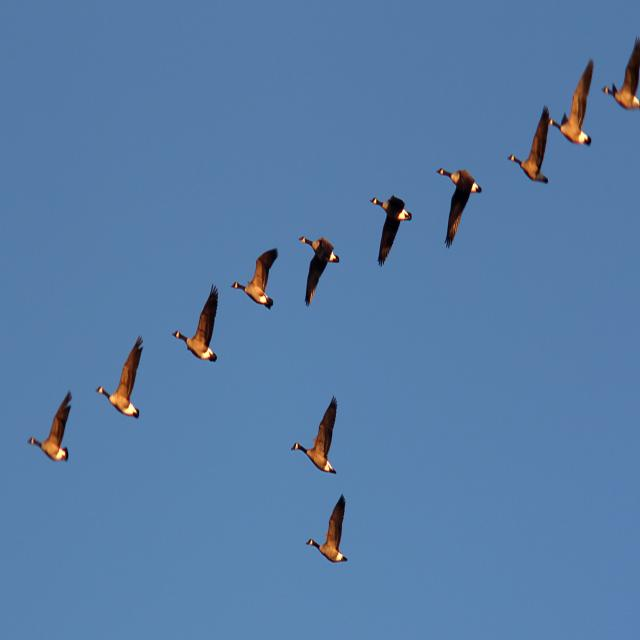bird: (170, 284, 222, 363), (95, 339, 146, 419), (290, 398, 340, 477), (438, 167, 484, 251), (556, 59, 598, 150), (603, 16, 640, 114), (507, 110, 554, 186), (230, 248, 282, 315), (29, 390, 75, 464), (305, 494, 349, 566), (369, 198, 414, 266), (300, 240, 342, 306)
